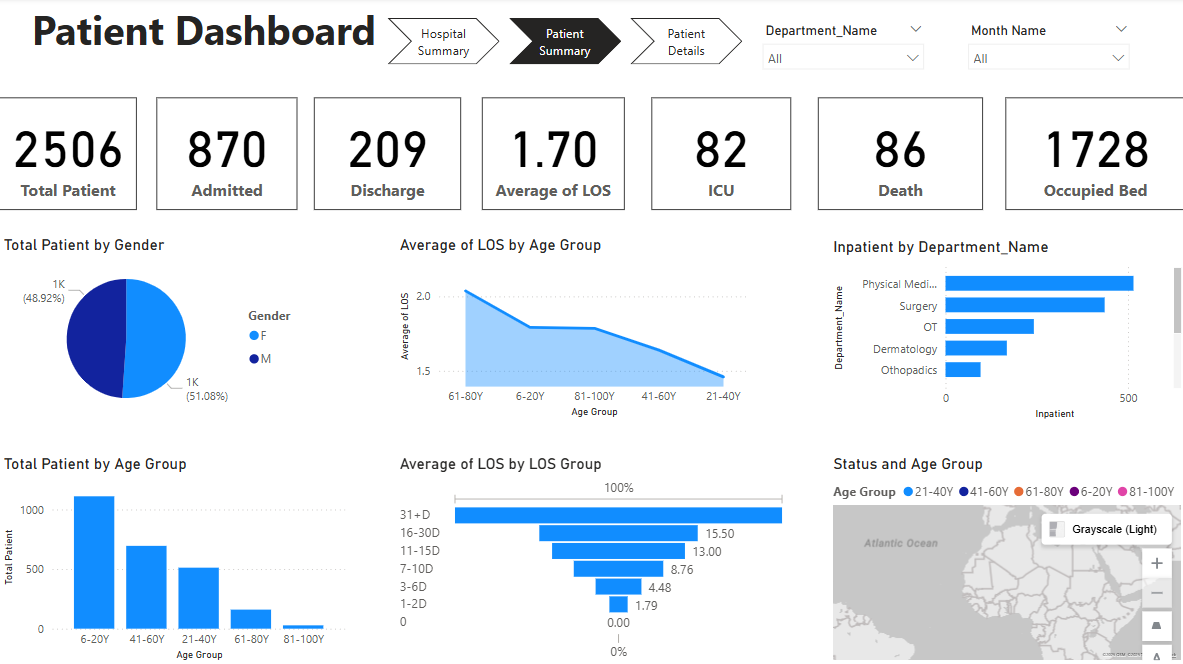

This screenshot's page, from the dashboard's own definition file:
{"tool":"powerbi","page":{"name":"Patient Summary","canvas":[1280,720],"ordinal":1},"visuals":[{"type":"card","fields":{"Values":["Measure.Total Patient"]},"box":[0,108.5,149,121.4],"z":0},{"type":"card","fields":{"Values":["Measure.Admitted"]},"box":[170,108.5,152.2,121.4],"z":1000},{"type":"card","fields":{"Values":["Measure.Discharge"]},"box":[340,108.5,158.7,121.4],"z":2000},{"type":"card","fields":{"Values":["Avg(Detail data dataset.LOS)"]},"box":[521.4,108.5,153.8,121.4],"z":3000},{"type":"card","fields":{"Values":["Measure.ICU"]},"box":[704.4,108.5,150.6,121.4],"z":4000},{"type":"card","fields":{"Values":["Death.Death"]},"box":[884.1,108.5,178.1,121.4],"z":5000},{"type":"card","fields":{"Values":["Measure.Occupied Bed"]},"box":[1086.5,108.5,194.3,121.4],"z":6000},{"type":"slicer","fields":{"Values":["Department.Department_Name"]},"box":[814.5,22.7,194.3,63.1],"z":7000},{"type":"slicer","fields":{"Values":["Date.Month Name"]},"box":[1036.3,22.7,194.3,63.1],"z":8000},{"type":"textbox","box":[0,0,442,68],"z":9000},{"type":"pieChart","fields":{"Category":["Detail data dataset.Gender"],"Y":["Measure.Total Patient"]},"box":[0,257.5,340,202.4],"z":10000},{"type":"areaChart","fields":{"Category":["Detail data dataset.Age Group"],"Y":["Avg(Detail data dataset.LOS)"]},"box":[427.5,257.5,387,200.8],"z":11000},{"type":"barChart","fields":{"Y":["Measure.Inpatient"],"Category":["Department.Department_Name"]},"box":[895.4,259.1,385.4,200.8],"z":12000},{"type":"columnChart","fields":{"Category":["Detail data dataset.Age Group"],"Y":["Measure.Total Patient"]},"box":[0,493.9,378.9,226.7],"z":13000},{"type":"azureMap","fields":{"Series":["Detail data dataset.Age Group"],"Category":["Detail data dataset.Status"]},"box":[895.4,493.9,385.4,226.7],"z":14000},{"type":"funnel","fields":{"Y":["Avg(Detail data dataset.LOS)"],"Category":["Detail data dataset.LOS Group"]},"box":[427.5,493.9,427.5,226.7],"z":15000},{"type":"pageNavigator","box":[419.4,22.7,383.8,50.2],"z":16000}]}

Visuals, with their boxes in screenshot pixels (x1, y1, x2, y2), scaled from the page's 1280x720 canvas onto the 1183x664 screenshot:
card - Measure.Total Patient: pyautogui.locateOnScreen(0, 100, 138, 212)
card - Measure.Admitted: pyautogui.locateOnScreen(157, 100, 298, 212)
card - Measure.Discharge: pyautogui.locateOnScreen(314, 100, 461, 212)
card - Avg(Detail data dataset.LOS): pyautogui.locateOnScreen(482, 100, 624, 212)
card - Measure.ICU: pyautogui.locateOnScreen(651, 100, 790, 212)
card - Death.Death: pyautogui.locateOnScreen(817, 100, 982, 212)
card - Measure.Occupied Bed: pyautogui.locateOnScreen(1004, 100, 1182, 212)
slicer - Department.Department_Name: pyautogui.locateOnScreen(753, 21, 932, 79)
slicer - Date.Month Name: pyautogui.locateOnScreen(958, 21, 1137, 79)
textbox: pyautogui.locateOnScreen(0, 0, 409, 63)
pieChart - Detail data dataset.Gender x Measure.Total Patient: pyautogui.locateOnScreen(0, 237, 314, 424)
areaChart - Detail data dataset.Age Group x Avg(Detail data dataset.LOS): pyautogui.locateOnScreen(395, 237, 753, 423)
barChart - Measure.Inpatient x Department.Department_Name: pyautogui.locateOnScreen(828, 239, 1182, 424)
columnChart - Detail data dataset.Age Group x Measure.Total Patient: pyautogui.locateOnScreen(0, 455, 350, 663)
azureMap - Detail data dataset.Age Group x Detail data dataset.Status: pyautogui.locateOnScreen(828, 455, 1182, 663)
funnel - Avg(Detail data dataset.LOS) x Detail data dataset.LOS Group: pyautogui.locateOnScreen(395, 455, 790, 663)
pageNavigator: pyautogui.locateOnScreen(388, 21, 742, 67)
